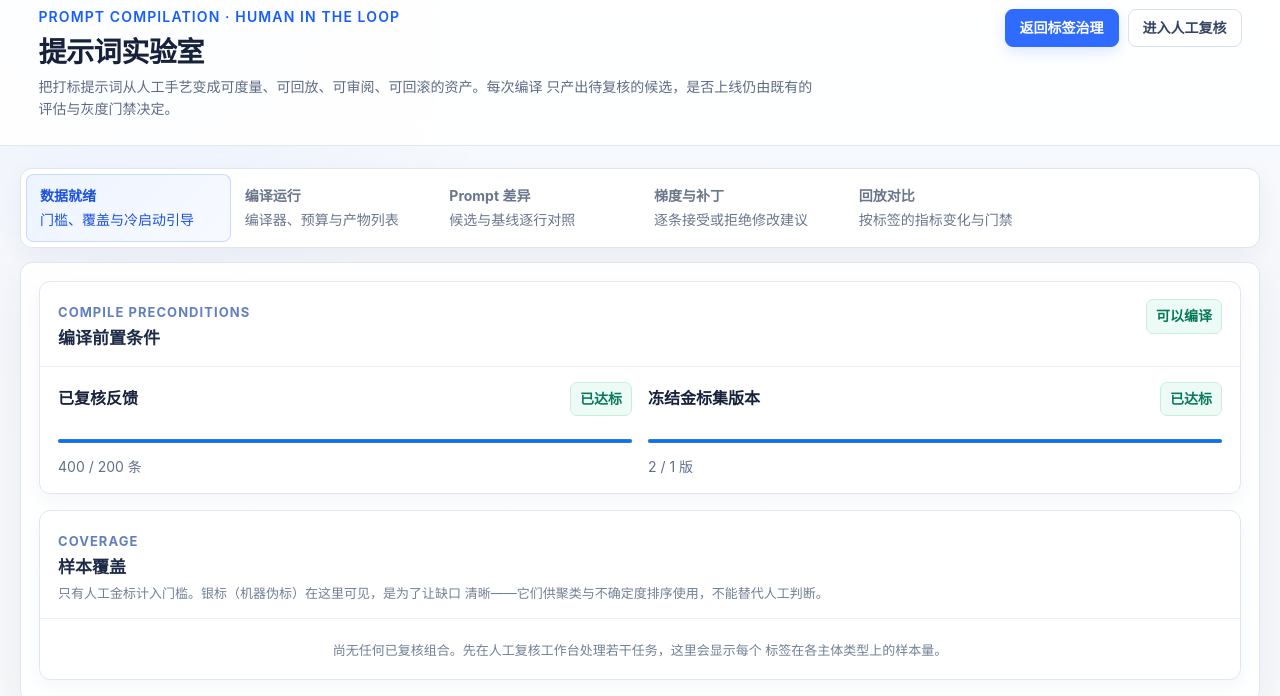
Test: PromptLabPage › stays on the same route when switching tabs
Click the tab "回放对比 按标签的指标变化与门禁" at (947, 208), box [845,174,1049,242]
(page scrolled)
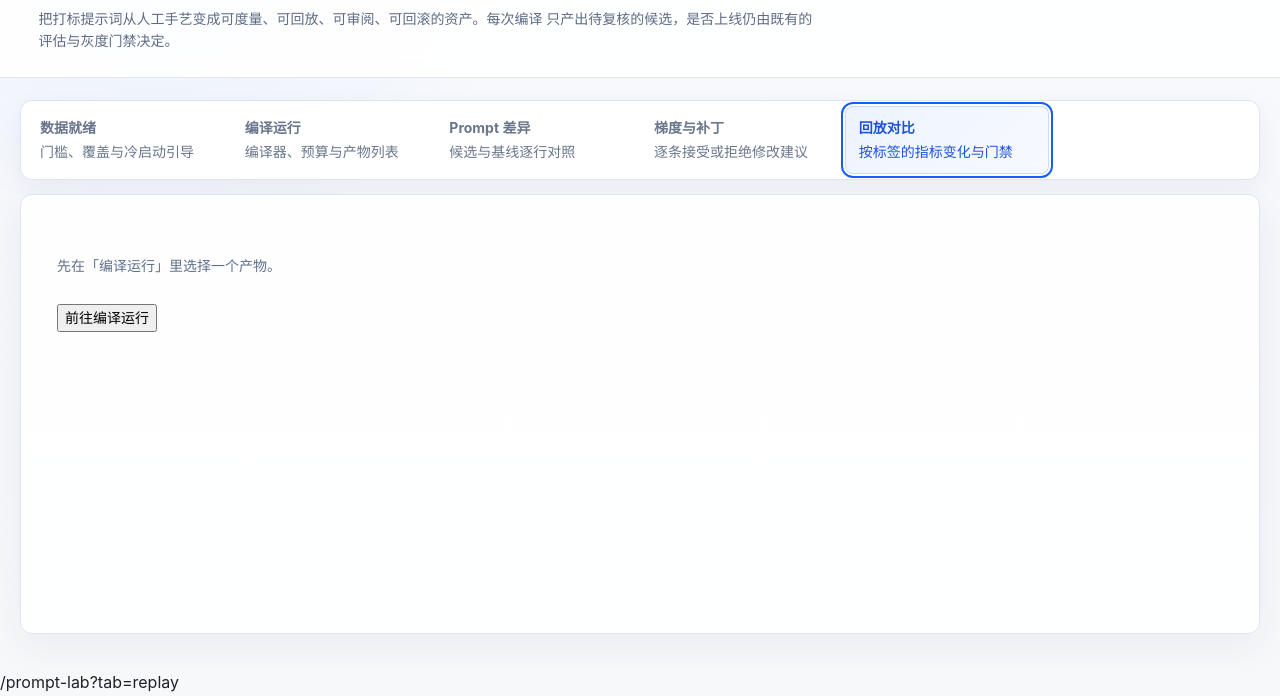
Result: the text named "当前查询" reads "/prompt-lab?tab=replay" at [0,672,179,692]
